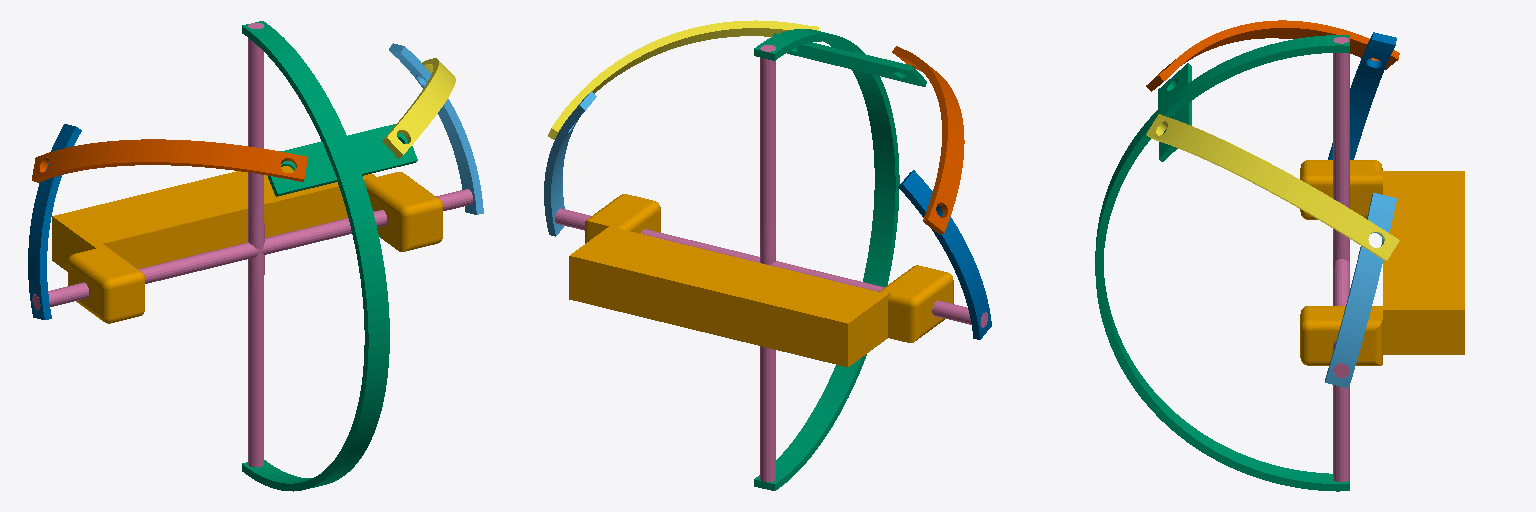
The robot description file, URDF, robot "retake":
<?xml version="1.0" ?>
<robot name="retake">

<material name="silver">
  <color rgba="0.700 0.700 0.700 1.000"/>
</material>

<link name="base_link">
  <inertial>
    <origin xyz="9.001350850077983e-05 0.06432365355734475 0.01498704030289099" rpy="0 0 0"/>
    <mass value="2.997980701135681"/>
    <inertia ixx="0.002104509224391444" iyy="0.015196949975537496" izz="0.016851162927365174" ixy="8.455107599737071e-06" iyz="-1.2499183559091555e-06" ixz="1.4044565979306688e-06"/>
  </inertial>
  <visual>
    <origin xyz="0 0 0" rpy="0 0 0"/>
    <geometry>
      <mesh filename="meshes/base_link.stl" scale="0.001 0.001 0.001"/>
    </geometry>
  </visual>
  <collision>
    <origin xyz="0 0 0" rpy="0 0 0"/>
    <geometry>
      <mesh filename="meshes/base_link.stl" scale="0.001 0.001 0.001"/>
    </geometry>
  </collision>
</link>

<link name="Component91">
  <inertial>
    <origin xyz="-0.01454273632707273 0.012628294128923565 0.04712943319015932" rpy="0 0 0"/>
    <mass value="0.0653214770037669"/>
    <inertia ixx="6.756216381545942e-05" iyy="7.096697167760209e-05" izz="1.471130400842774e-05" ixy="5.94728813814178e-06" iyz="-1.6239612421074687e-05" ixz="2.219558150458648e-05"/>
  </inertial>
  <visual>
    <origin xyz="-0.1555 -0.025 -0.015" rpy="0 0 0"/>
    <geometry>
      <mesh filename="meshes/Component91.stl" scale="0.001 0.001 0.001"/>
    </geometry>
  </visual>
  <collision>
    <origin xyz="-0.1555 -0.025 -0.015" rpy="0 0 0"/>
    <geometry>
      <mesh filename="meshes/Component91.stl" scale="0.001 0.001 0.001"/>
    </geometry>
  </collision>
</link>

<link name="Component31">
  <inertial>
    <origin xyz="-0.00022300936255019145 -0.09548861316843404 -0.12945366764287847" rpy="0 0 0"/>
    <mass value="0.336250035406094"/>
    <inertia ixx="0.004031632317065439" iyy="0.003530929391072424" izz="0.0006167923765988458" ixy="-5.464420852499658e-07" iyz="3.897521886361377e-05" ixz="6.116324243065047e-06"/>
  </inertial>
  <visual>
    <origin xyz="-0.0005 -0.025 -0.165" rpy="0 0 0"/>
    <geometry>
      <mesh filename="meshes/Component31.stl" scale="0.001 0.001 0.001"/>
    </geometry>
  </visual>
  <collision>
    <origin xyz="-0.0005 -0.025 -0.165" rpy="0 0 0"/>
    <geometry>
      <mesh filename="meshes/Component31.stl" scale="0.001 0.001 0.001"/>
    </geometry>
  </collision>
</link>

<link name="Component71">
  <inertial>
    <origin xyz="-0.04053150388381911 0.0241297994075228 0.06159806525780406" rpy="0 0 0"/>
    <mass value="0.10822755292964932"/>
    <inertia ixx="0.00020011996067929318" iyy="0.0001182197490504442" izz="0.0002884673076857774" ixy="-0.00013308993898171684" iyz="4.427257117055588e-05" ixz="2.911660412185371e-05"/>
  </inertial>
  <visual>
    <origin xyz="-0.137484 0.046217 -0.056117" rpy="0 0 0"/>
    <geometry>
      <mesh filename="meshes/Component71.stl" scale="0.001 0.001 0.001"/>
    </geometry>
  </visual>
  <collision>
    <origin xyz="-0.137484 0.046217 -0.056117" rpy="0 0 0"/>
    <geometry>
      <mesh filename="meshes/Component71.stl" scale="0.001 0.001 0.001"/>
    </geometry>
  </collision>
</link>

<link name="Component9Mirror_11">
  <inertial>
    <origin xyz="0.014542736438831444 0.012628294128923565 0.047129433190159276" rpy="0 0 0"/>
    <mass value="0.0653214770037669"/>
    <inertia ixx="6.756216381545964e-05" iyy="7.096697167760209e-05" izz="1.471130400842774e-05" ixy="-5.9472881381418346e-06" iyz="-1.6239612421074687e-05" ixz="-2.2195581504586373e-05"/>
  </inertial>
  <visual>
    <origin xyz="0.1545 -0.025 -0.015" rpy="0 0 0"/>
    <geometry>
      <mesh filename="meshes/Component9Mirror_11.stl" scale="0.001 0.001 0.001"/>
    </geometry>
  </visual>
  <collision>
    <origin xyz="0.1545 -0.025 -0.015" rpy="0 0 0"/>
    <geometry>
      <mesh filename="meshes/Component9Mirror_11.stl" scale="0.001 0.001 0.001"/>
    </geometry>
  </collision>
</link>

<link name="Component7Mirror_11">
  <inertial>
    <origin xyz="-0.23241894575976432 -0.1583452123125803 0.1104878563729534" rpy="0 0 0"/>
    <mass value="0.10833916527224263"/>
    <inertia ixx="0.00020032185209044448" iyy="0.0001181509888109277" izz="0.00028858720564245346" ixy="0.00013313980710182914" iyz="4.431484736785009e-05" ixz="-2.91458072998465e-05"/>
  </inertial>
  <visual>
    <origin xyz="-0.136489 -0.136212 -0.007235" rpy="0 0 0"/>
    <geometry>
      <mesh filename="meshes/Component7Mirror_11.stl" scale="0.001 0.001 0.001"/>
    </geometry>
  </visual>
  <collision>
    <origin xyz="-0.136489 -0.136212 -0.007235" rpy="0 0 0"/>
    <geometry>
      <mesh filename="meshes/Component7Mirror_11.stl" scale="0.001 0.001 0.001"/>
    </geometry>
  </collision>
</link>

<link name="Component21">
  <inertial>
    <origin xyz="-0.08949999994412064 9.40816542727152e-10 1.5566011257739376e-09" rpy="0 0 0"/>
    <mass value="0.37085457811395417"/>
    <inertia ixx="0.001390693556830135" iyy="0.002920096222619227" izz="0.0015340514176078195" ixy="-8.978549240895584e-20" iyz="1.9851794904116038e-12" ixz="4.235164736271502e-22"/>
  </inertial>
  <visual>
    <origin xyz="-0.09 -0.025 -0.015" rpy="0 0 0"/>
    <geometry>
      <mesh filename="meshes/Component21.stl" scale="0.001 0.001 0.001"/>
    </geometry>
  </visual>
  <collision>
    <origin xyz="-0.09 -0.025 -0.015" rpy="0 0 0"/>
    <geometry>
      <mesh filename="meshes/Component21.stl" scale="0.001 0.001 0.001"/>
    </geometry>
  </collision>
</link>

<joint name="Revolute_6" type="continuous">
  <origin xyz="0.0655 0.0 0.0" rpy="0 0 0"/>
  <parent link="Component21"/>
  <child link="Component91"/>
  <axis xyz="1.0 0.0 0.0"/>
</joint>
<transmission name="Revolute_6_tran">
  <type>transmission_interface/SimpleTransmission</type>
  <joint name="Revolute_6">
    <hardwareInterface>PositionJointInterface</hardwareInterface>
  </joint>
  <actuator name="Revolute_6_actr">
    <hardwareInterface>PositionJointInterface</hardwareInterface>
    <mechanicalReduction>1</mechanicalReduction>
  </actuator>
</transmission>

<joint name="Revolute_8" type="continuous">
  <origin xyz="-0.0895 0.0 0.15" rpy="0 0 0"/>
  <parent link="Component21"/>
  <child link="Component31"/>
  <axis xyz="0.0 0.0 1.0"/>
</joint>
<transmission name="Revolute_8_tran">
  <type>transmission_interface/SimpleTransmission</type>
  <joint name="Revolute_8">
    <hardwareInterface>PositionJointInterface</hardwareInterface>
  </joint>
  <actuator name="Revolute_8_actr">
    <hardwareInterface>PositionJointInterface</hardwareInterface>
    <mechanicalReduction>1</mechanicalReduction>
  </actuator>
</transmission>

<joint name="Revolute_10" type="continuous">
  <origin xyz="-0.018016 -0.071217 0.041117" rpy="0 0 0"/>
  <parent link="Component91"/>
  <child link="Component71"/>
  <axis xyz="0.855364 0.134075 0.500376"/>
</joint>
<transmission name="Revolute_10_tran">
  <type>transmission_interface/SimpleTransmission</type>
  <joint name="Revolute_10">
    <hardwareInterface>PositionJointInterface</hardwareInterface>
  </joint>
  <actuator name="Revolute_10_actr">
    <hardwareInterface>PositionJointInterface</hardwareInterface>
    <mechanicalReduction>1</mechanicalReduction>
  </actuator>
</transmission>

<joint name="Revolute_11" type="continuous">
  <origin xyz="-0.2445 0.0 0.0" rpy="0 0 0"/>
  <parent link="Component21"/>
  <child link="Component9Mirror_11"/>
  <axis xyz="-1.0 0.0 0.0"/>
</joint>
<transmission name="Revolute_11_tran">
  <type>transmission_interface/SimpleTransmission</type>
  <joint name="Revolute_11">
    <hardwareInterface>PositionJointInterface</hardwareInterface>
  </joint>
  <actuator name="Revolute_11_actr">
    <hardwareInterface>PositionJointInterface</hardwareInterface>
    <mechanicalReduction>1</mechanicalReduction>
  </actuator>
</transmission>

<joint name="Revolute_12" type="continuous">
  <origin xyz="0.290989 0.111212 -0.007765" rpy="0 0 0"/>
  <parent link="Component9Mirror_11"/>
  <child link="Component7Mirror_11"/>
  <axis xyz="0.855364 -0.134075 -0.500376"/>
</joint>
<transmission name="Revolute_12_tran">
  <type>transmission_interface/SimpleTransmission</type>
  <joint name="Revolute_12">
    <hardwareInterface>PositionJointInterface</hardwareInterface>
  </joint>
  <actuator name="Revolute_12_actr">
    <hardwareInterface>PositionJointInterface</hardwareInterface>
    <mechanicalReduction>1</mechanicalReduction>
  </actuator>
</transmission>

<joint name="Revolute_14" type="continuous">
  <origin xyz="0.09 0.025 0.015" rpy="0 0 0"/>
  <parent link="base_link"/>
  <child link="Component21"/>
  <axis xyz="-1.0 0.0 0.0"/>
</joint>
<transmission name="Revolute_14_tran">
  <type>transmission_interface/SimpleTransmission</type>
  <joint name="Revolute_14">
    <hardwareInterface>PositionJointInterface</hardwareInterface>
  </joint>
  <actuator name="Revolute_14_actr">
    <hardwareInterface>PositionJointInterface</hardwareInterface>
    <mechanicalReduction>1</mechanicalReduction>
  </actuator>
</transmission>

</robot>

--- Facts derived from the render (not from the file) ---
The picture shows the robot from 3 angles, left to right: view 1: azimuth 30°, elevation 25°; view 2: azimuth 150°, elevation 25°; view 3: azimuth 270°, elevation 25°; orthographic projection.
Model retake with 7 links and 6 joints (6 continuous), rooted at base_link, posed every joint at zero.
Visible links, largest first — view 1: base_link, Component31, Component21, Component7Mirror_11, Component9Mirror_11, Component91, Component71; view 2: base_link, Component31, Component21, Component7Mirror_11, Component71, Component9Mirror_11, Component91; view 3: base_link, Component31, Component71, Component21, Component91, Component7Mirror_11, Component9Mirror_11.
Boxes of the visible links, x1=… form: base_link: x1=52, y1=166, x2=442, y2=323; Component31: x1=242, y1=21, x2=417, y2=491; Component21: x1=32, y1=23, x2=472, y2=467; Component7Mirror_11: x1=32, y1=139, x2=307, y2=182; Component9Mirror_11: x1=28, y1=124, x2=81, y2=319; Component91: x1=389, y1=43, x2=483, y2=214; Component71: x1=382, y1=58, x2=455, y2=158; base_link: x1=569, y1=194, x2=953, y2=366; Component31: x1=754, y1=29, x2=926, y2=490; Component21: x1=555, y1=45, x2=987, y2=481; Component7Mirror_11: x1=892, y1=46, x2=964, y2=233; Component71: x1=548, y1=20, x2=818, y2=139; Component9Mirror_11: x1=898, y1=170, x2=991, y2=339; Component91: x1=544, y1=91, x2=596, y2=236; base_link: x1=1300, y1=160, x2=1464, y2=365; Component31: x1=1095, y1=35, x2=1349, y2=491; Component71: x1=1146, y1=114, x2=1399, y2=260; Component21: x1=1333, y1=37, x2=1349, y2=482; Component91: x1=1325, y1=193, x2=1396, y2=387; Component7Mirror_11: x1=1146, y1=20, x2=1399, y2=91; Component9Mirror_11: x1=1328, y1=32, x2=1396, y2=159.
Bounding box of the posed robot: 0.31 × 0.2249 × 0.3 m (x, y, z).
7 mesh visuals loaded from 7 distinct referenced files (7 binary STL).